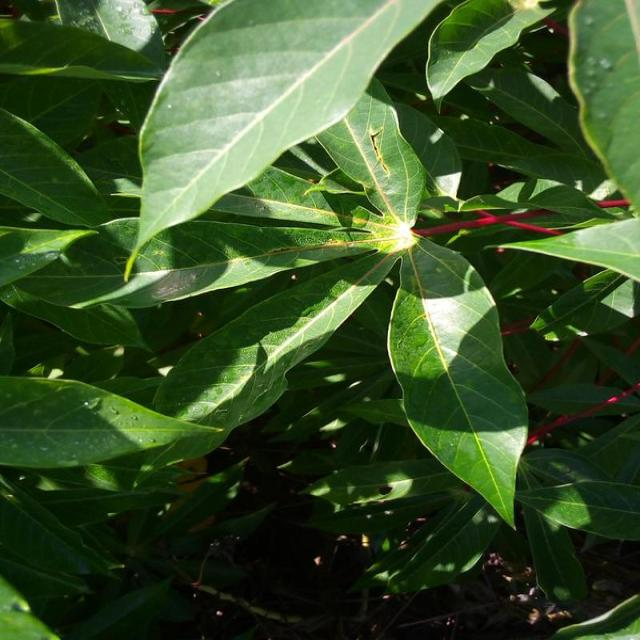cassava leaf: (122, 0, 444, 282), (386, 233, 528, 531)
